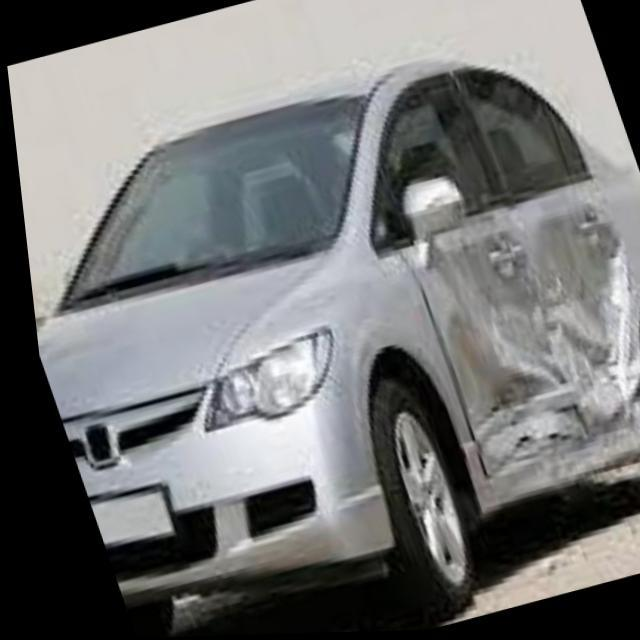dent: (399, 183, 640, 507)
